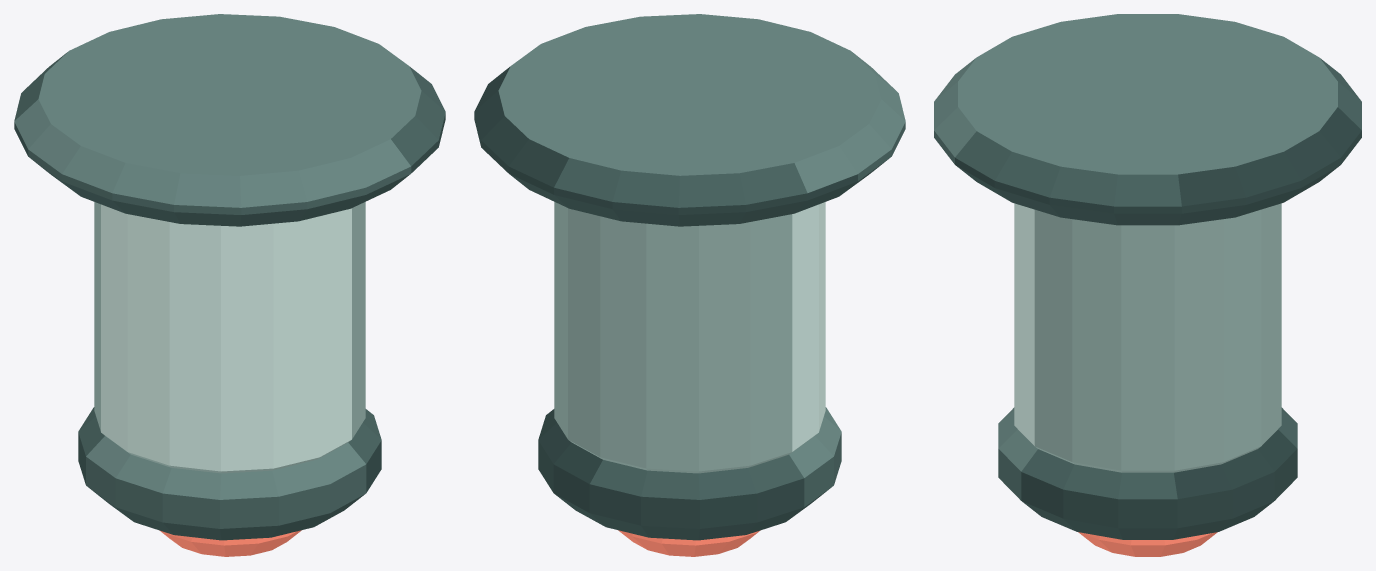
The model's file is Laser_Down.gltf.
3 renders of one model, left to right at view 1: azimuth 30°, elevation 25°; view 2: azimuth 150°, elevation 25°; view 3: azimuth 270°, elevation 25°, orthographic.
Visible parts, largest first — view 1: Laser_Down_baked; view 2: Laser_Down_baked; view 3: Laser_Down_baked.
Part boxes in pixels (x1,y1,x2,y2): Laser_Down_baked: [14, 14, 445, 556]; Laser_Down_baked: [474, 14, 905, 556]; Laser_Down_baked: [934, 14, 1361, 556].
Bounding box in the file's own units: 0.5334 × 0.6 × 0.5334.
